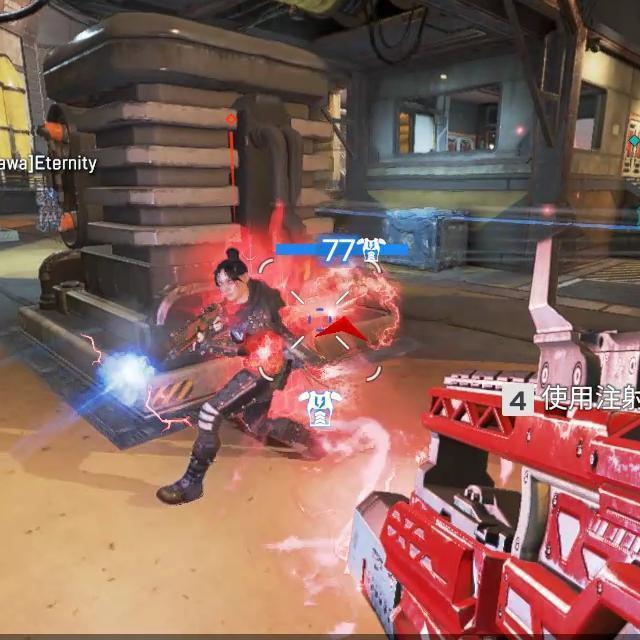avatar: (153, 246, 313, 510)
